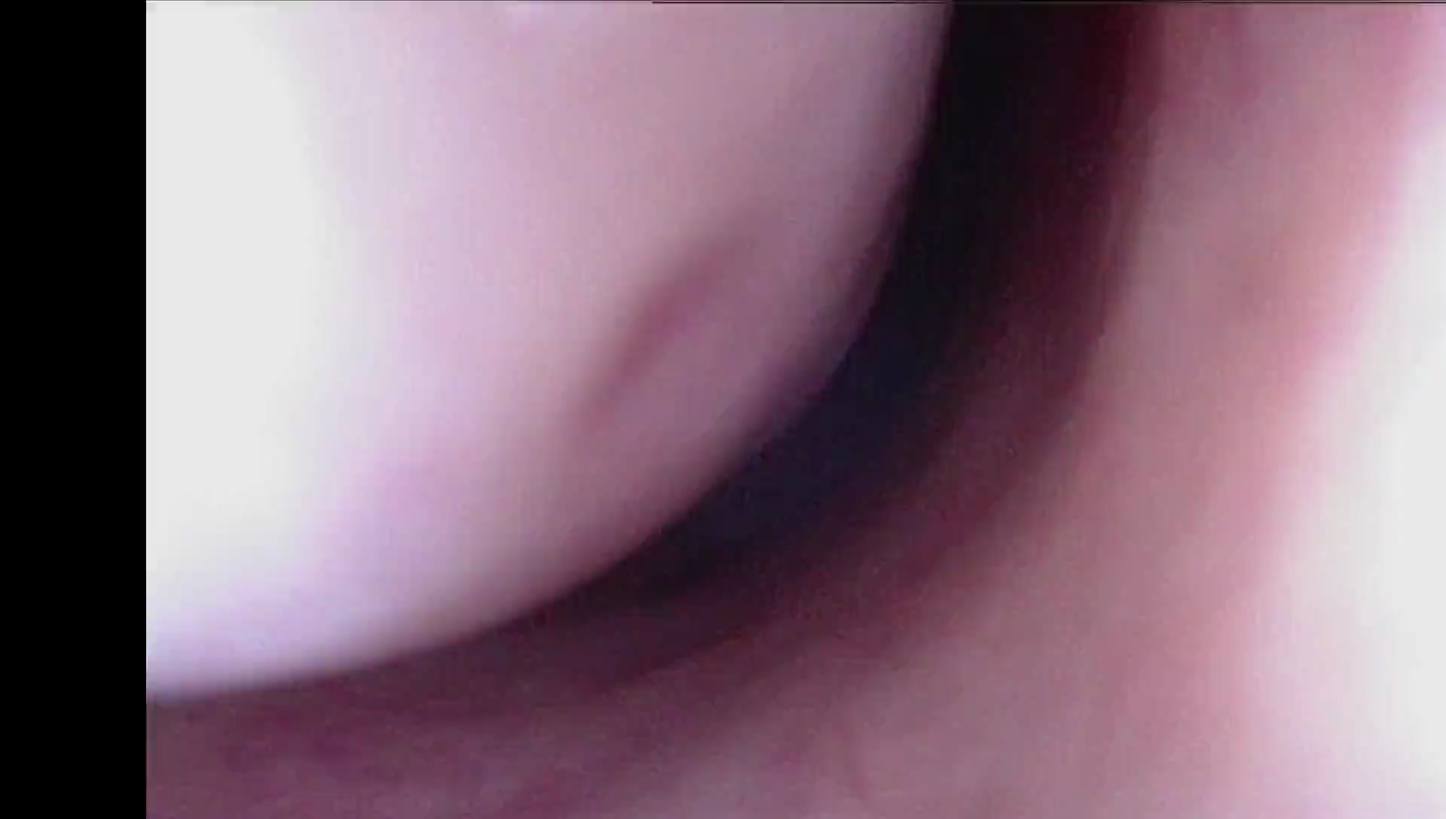close_wall: (149, 16, 818, 605), (1119, 89, 1446, 819)
next: (582, 1, 1162, 629)
